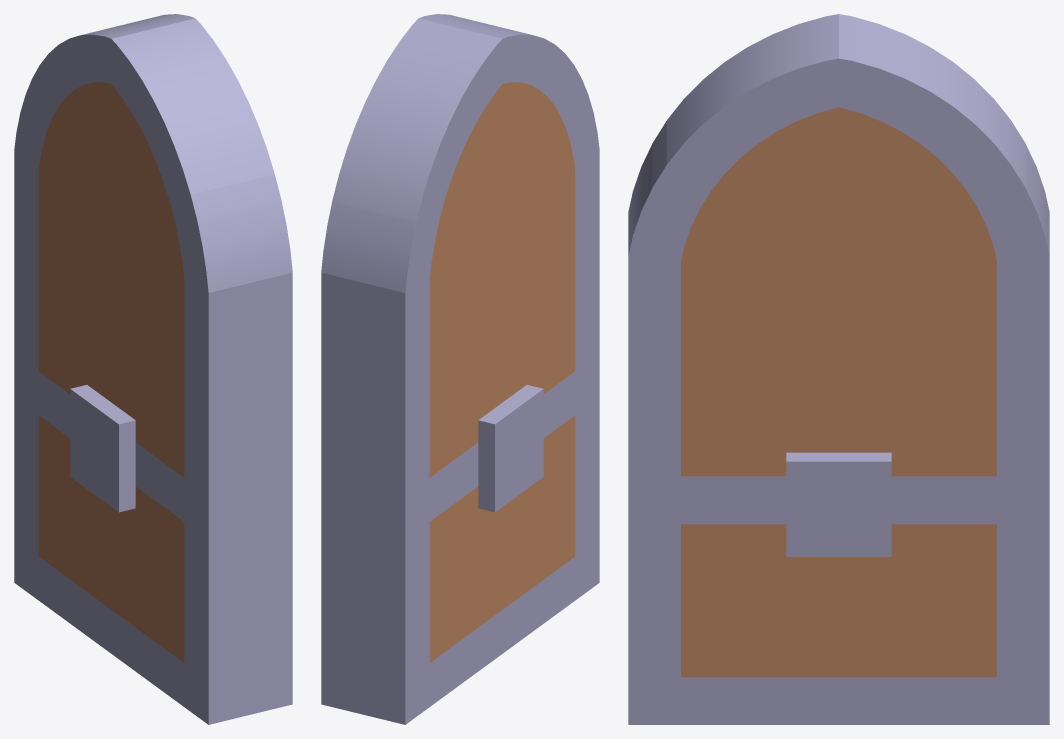
Rendered from door.glb.
The picture shows the model from 3 angles, left to right: view 1: azimuth 30°, elevation 25°; view 2: azimuth 150°, elevation 25°; view 3: azimuth 270°, elevation 25°; orthographic projection. The views are drawn at different scales.
Parts seen in each view (by area): view 1: door; view 2: door; view 3: door.
Part boxes in pixels (<box>): door: <box>14,14,292,724</box>; door: <box>321,14,599,724</box>; door: <box>628,14,1049,724</box>.
Bounding box in the file's own units: 0.14 × 0.6981 × 0.4.
